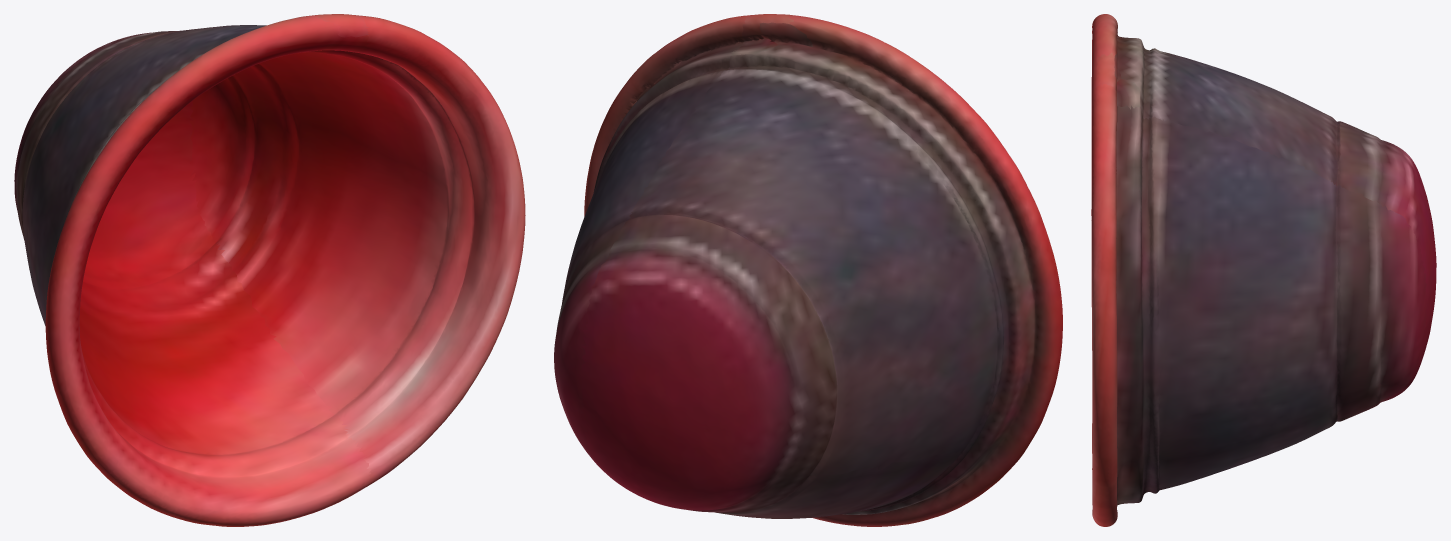
File: plastik-becher.glb
The picture shows the model from 3 angles, left to right: view 1: azimuth 30°, elevation 25°; view 2: azimuth 150°, elevation 25°; view 3: azimuth 270°, elevation 25°; orthographic projection. The views are drawn at different scales.
Parts seen in each view (by area): view 1: plastik-becher; view 2: plastik-becher; view 3: plastik-becher.
Part boxes in pixels (x1,y1,x2,y2): plastik-becher: (14, 14, 525, 526); plastik-becher: (554, 14, 1062, 526); plastik-becher: (1091, 14, 1436, 526).
Bounding box in the file's own units: 0.133 × 0.1329 × 0.0895.
1 material, 1 textured.
